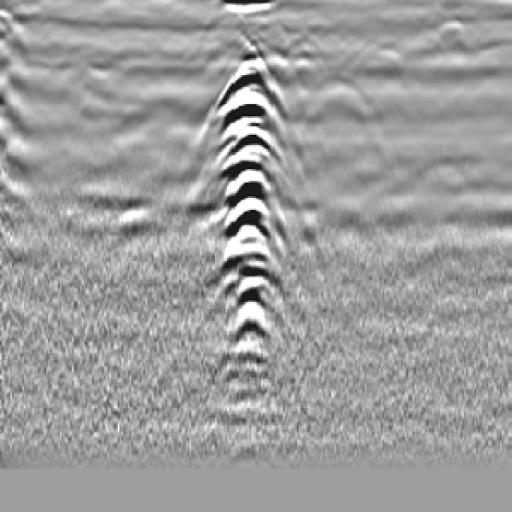metalic: (146, 42, 317, 388)
nonmetalic: (292, 62, 388, 181)
